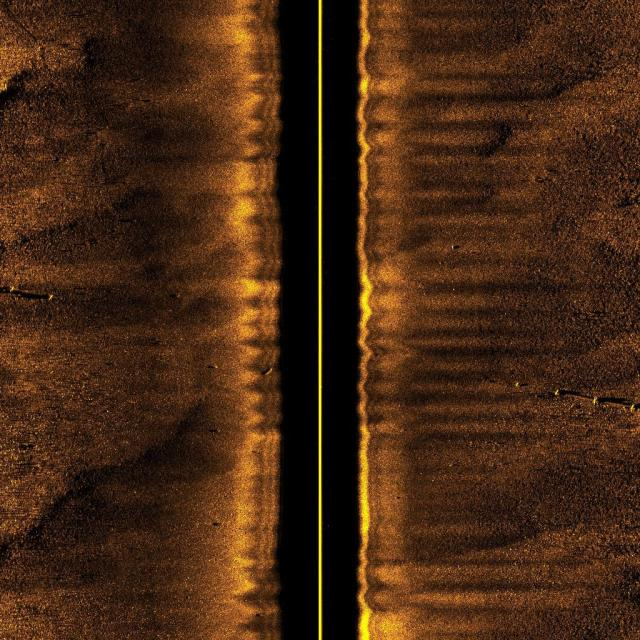mine: (4, 284, 58, 302), (562, 390, 590, 401), (259, 366, 274, 376)
